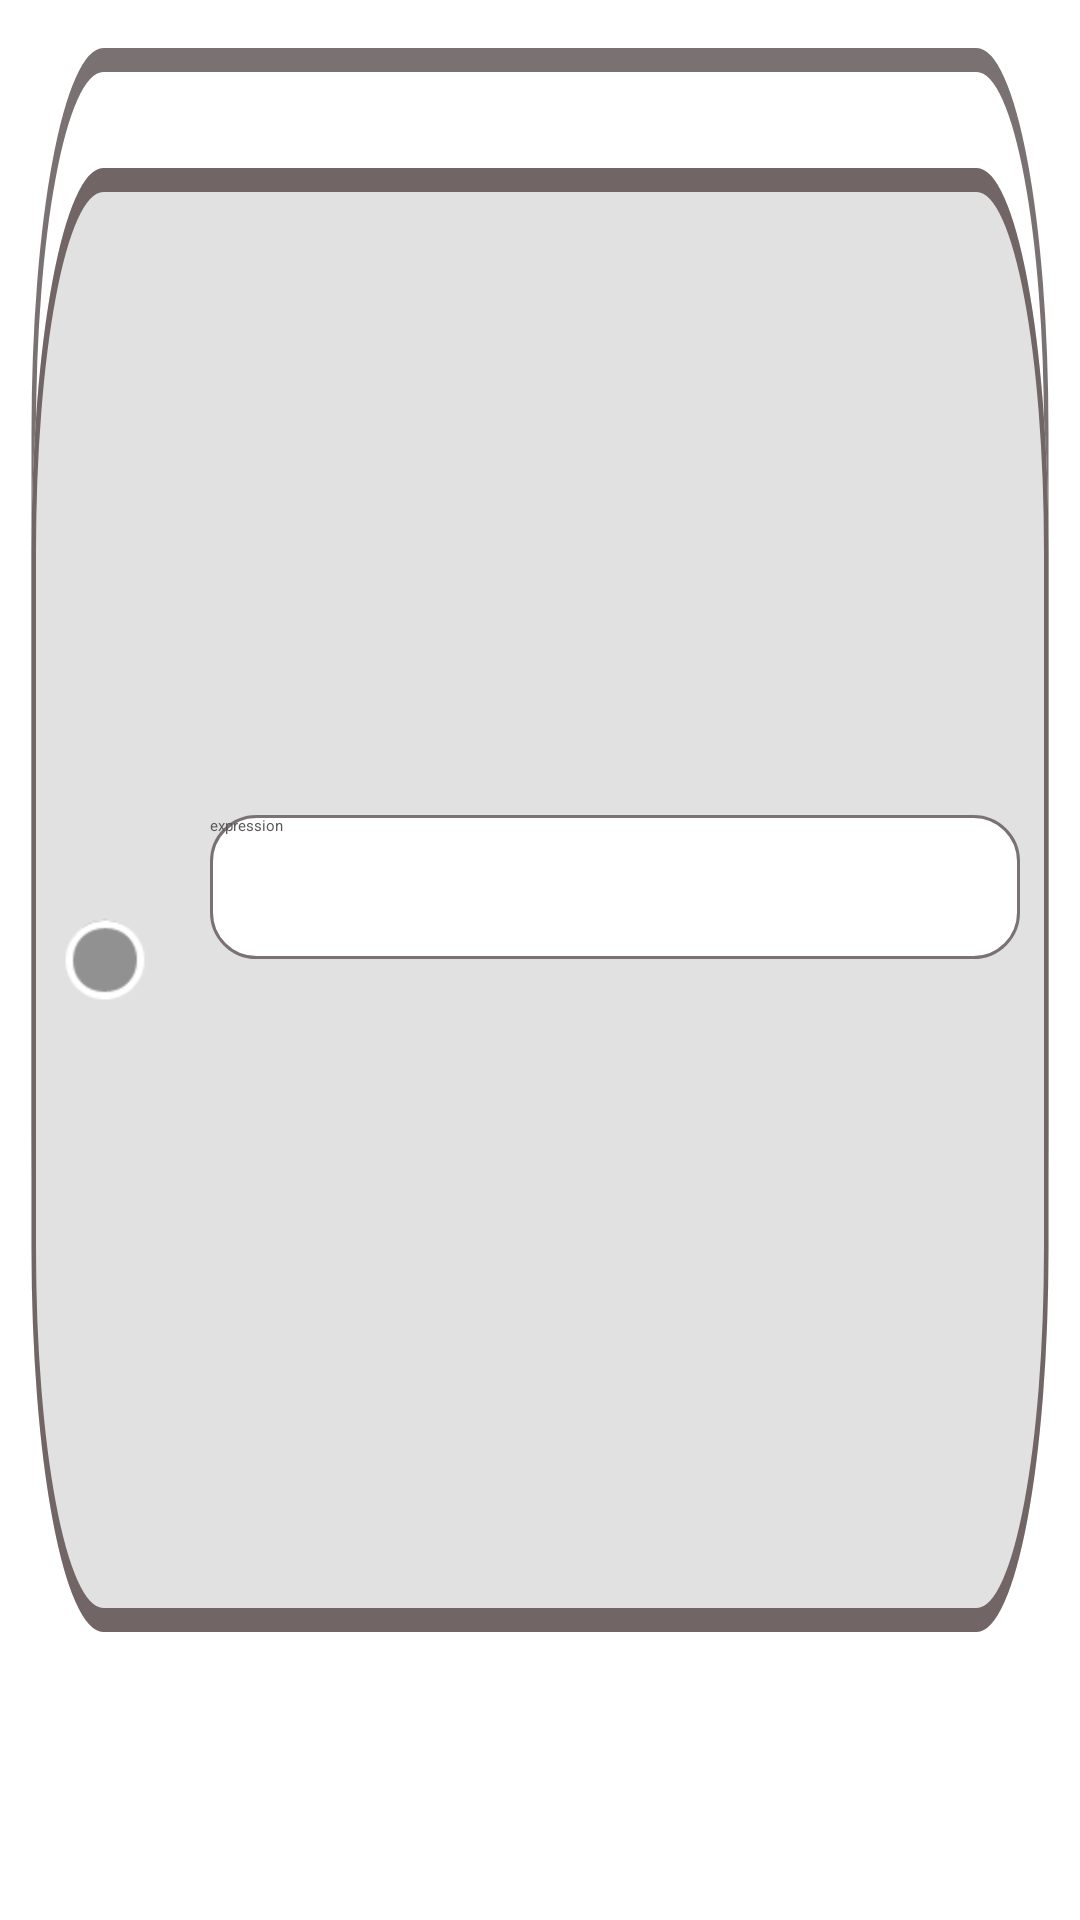

Where icons sit on this 1080 × 1920 app screen, as (x1, y1, x2, y2):
presence invisible: (66, 921, 144, 999)
